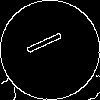I: (25, 25, 72, 57)
